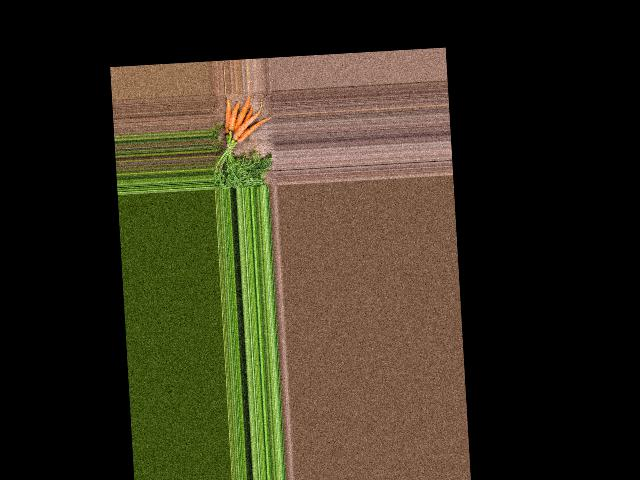carrot: (222, 101, 243, 135)
